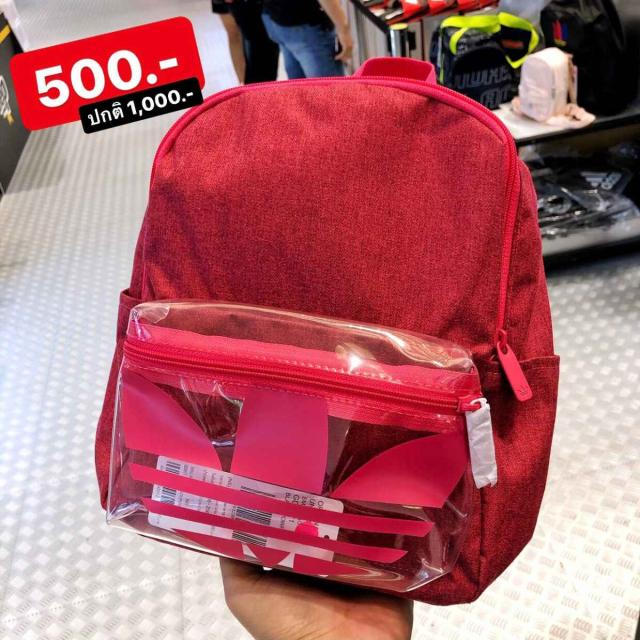Handbag: (97, 75, 560, 605)
